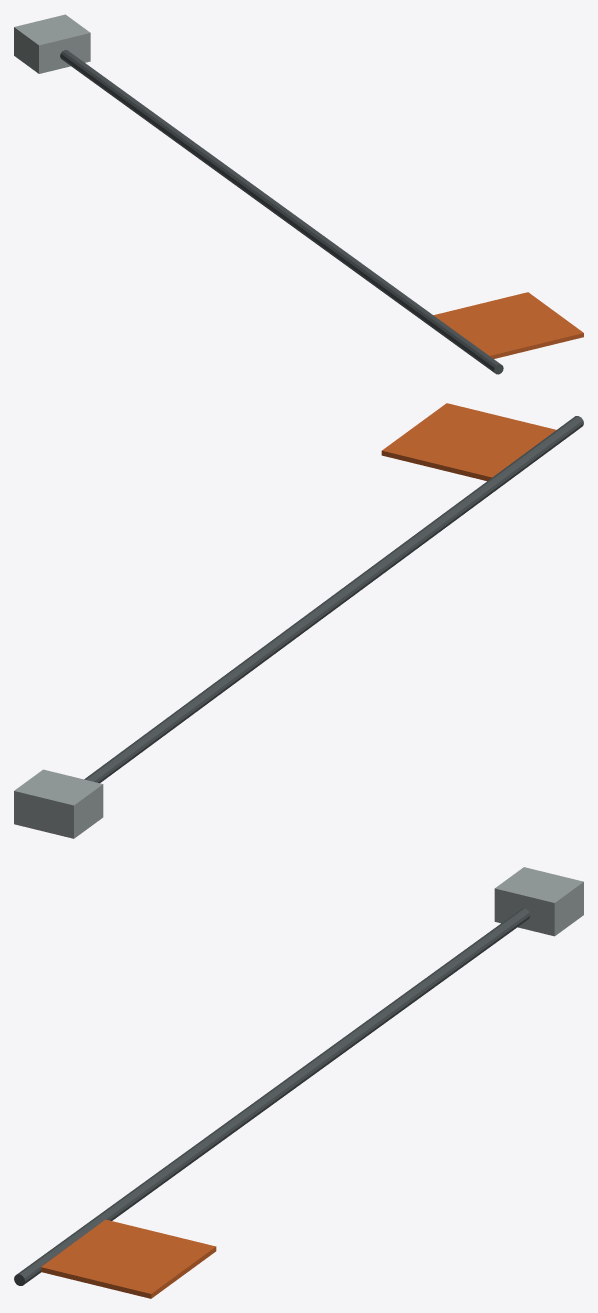
Rendered from KIT_ROOF_Antenna.glb.
3 renders of one model, top to bottom at view 1: azimuth 30°, elevation 25°; view 2: azimuth 150°, elevation 25°; view 3: azimuth 330°, elevation 25°, orthographic. The views are drawn at different scales.
Parts seen in each view (by area): view 1: Mast, Flag, Bracket; view 2: Mast, Flag, Bracket; view 3: Flag, Mast, Bracket.
Boxes of the visible parts, x1=… form: Mast: x1=60, y1=50, x2=503, y2=374; Flag: x1=433, y1=292, x2=583, y2=358; Bracket: x1=14, y1=14, x2=90, y2=73; Mast: x1=84, y1=416, x2=583, y2=783; Flag: x1=381, y1=403, x2=555, y2=480; Bracket: x1=14, y1=769, x2=103, y2=838; Flag: x1=41, y1=1219, x2=216, y2=1298; Mast: x1=14, y1=908, x2=530, y2=1285; Bracket: x1=494, y1=867, x2=583, y2=936.
Bounding box in the file's own units: 0.155 × 0.034 × 0.987.
